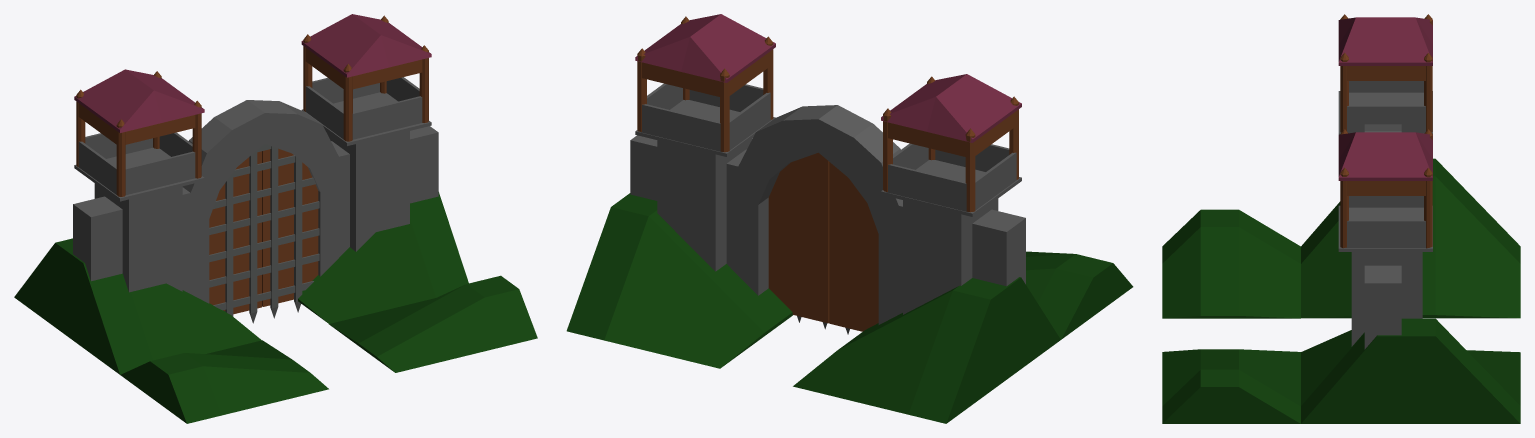
The model's file is Gate - Stone.fbx.
3 views of the same model, side by side, from view 1: azimuth 30°, elevation 25°; view 2: azimuth 150°, elevation 25°; view 3: azimuth 270°, elevation 25° (orthographic). The views are drawn at different scales.
Visible parts, largest first — view 1: Rampart_008, Ditch_Wall_005, Stone_wall_007, Tower_008, Tower_007, Portculis_001, Gate, Cover_008, Cover_009, Stone_wall_008; view 2: Rampart_008, Stone_wall_008, Gate, Tower_007, Tower_008, Cover_008, Cover_009, Ditch_Wall_005, Stone_wall_007; view 3: Rampart_008, Ditch_Wall_005, Tower_007, Cover_008, Cover_009, Tower_008, Stone_wall_007, Stone_wall_008.
Boxes of the visible parts, box(x1,y1,x2,y2) form: Rampart_008: box(14, 192, 468, 374); Ditch_Wall_005: box(120, 275, 537, 423); Stone_wall_007: box(82, 106, 438, 303); Tower_008: box(74, 132, 204, 292); Tower_007: box(301, 77, 431, 251); Portculis_001: box(209, 144, 319, 323); Gate: box(209, 148, 318, 314); Cover_008: box(301, 14, 431, 141); Cover_009: box(74, 69, 204, 196); Stone_wall_008: box(73, 100, 340, 260); Rampart_008: box(566, 193, 1060, 423); Stone_wall_008: box(630, 112, 1016, 324); Gate: box(768, 152, 878, 331); Tower_007: box(635, 83, 775, 271); Tower_008: box(881, 143, 1021, 314); Cover_008: box(635, 14, 775, 152); Cover_009: box(881, 74, 1021, 212); Ditch_Wall_005: box(1026, 251, 1133, 339); Stone_wall_007: box(736, 105, 1025, 288); Rampart_008: box(1301, 158, 1520, 423); Ditch_Wall_005: box(1162, 209, 1300, 423); Tower_007: box(1338, 196, 1432, 346); Cover_008: box(1338, 129, 1432, 248); Cover_009: box(1338, 14, 1432, 132); Tower_008: box(1338, 81, 1432, 134); Stone_wall_007: box(1364, 124, 1383, 349); Stone_wall_008: box(1383, 124, 1401, 335).
Bounding box in the file's own units: 9.99 × 7.16 × 8.54.
